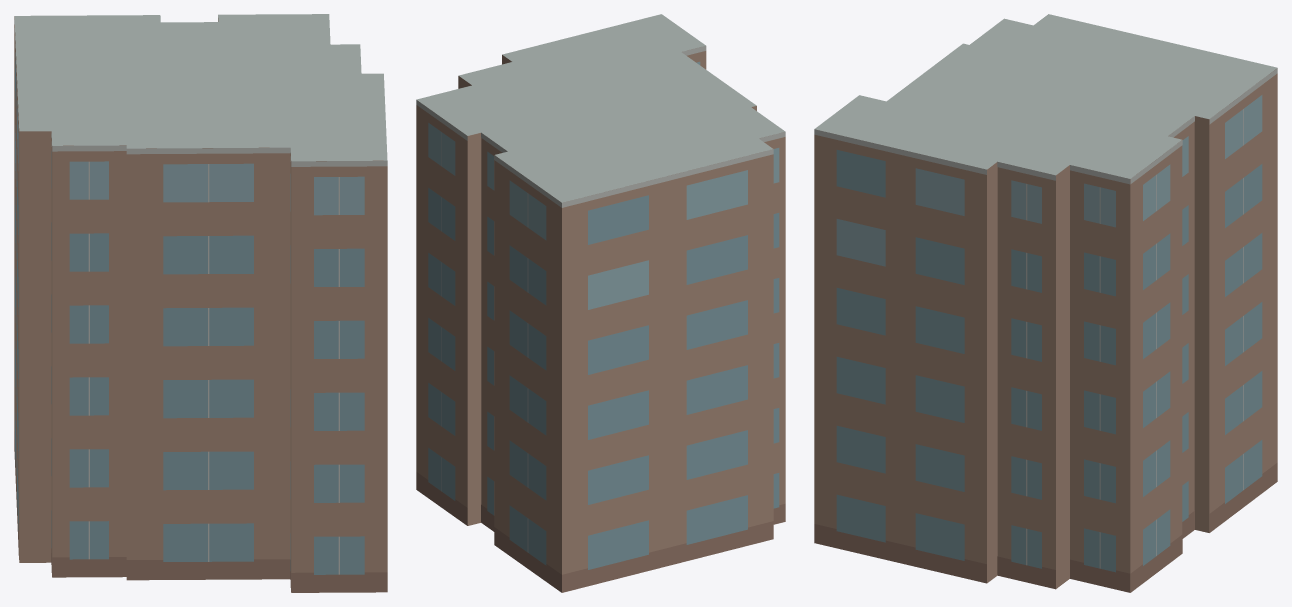
Rendered from survey-upis-32655152.glb.
3 renders of one model, left to right at view 1: azimuth 30°, elevation 25°; view 2: azimuth 150°, elevation 25°; view 3: azimuth 270°, elevation 25°, orthographic. The views are drawn at different scales.
Parts seen in each view (by area): view 1: survey-upis-32655152.tmp; view 2: survey-upis-32655152.tmp; view 3: survey-upis-32655152.tmp.
Boxes of the visible parts, x1,y1,x2,y2 form: survey-upis-32655152.tmp: (14, 14, 387, 592); survey-upis-32655152.tmp: (416, 14, 785, 592); survey-upis-32655152.tmp: (814, 14, 1277, 592).
Bounding box in the file's own units: 15.91 × 18.6 × 18.88.
